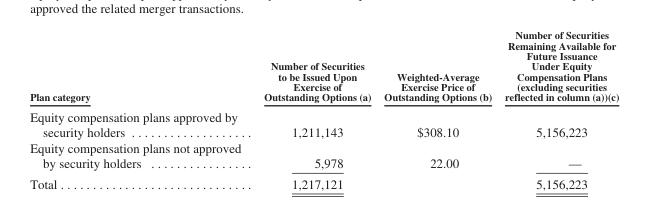table: (29, 28, 618, 190)
table column: (29, 28, 251, 190), (251, 28, 376, 190), (376, 28, 497, 190), (497, 28, 618, 190)
table column header: (29, 28, 618, 105)
table row: (29, 28, 618, 105), (29, 105, 618, 139), (29, 139, 618, 173), (29, 173, 618, 190)
